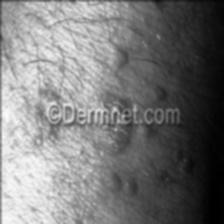Toxin: (94, 94, 128, 148), (34, 89, 61, 139), (107, 171, 136, 193), (170, 146, 192, 174)
